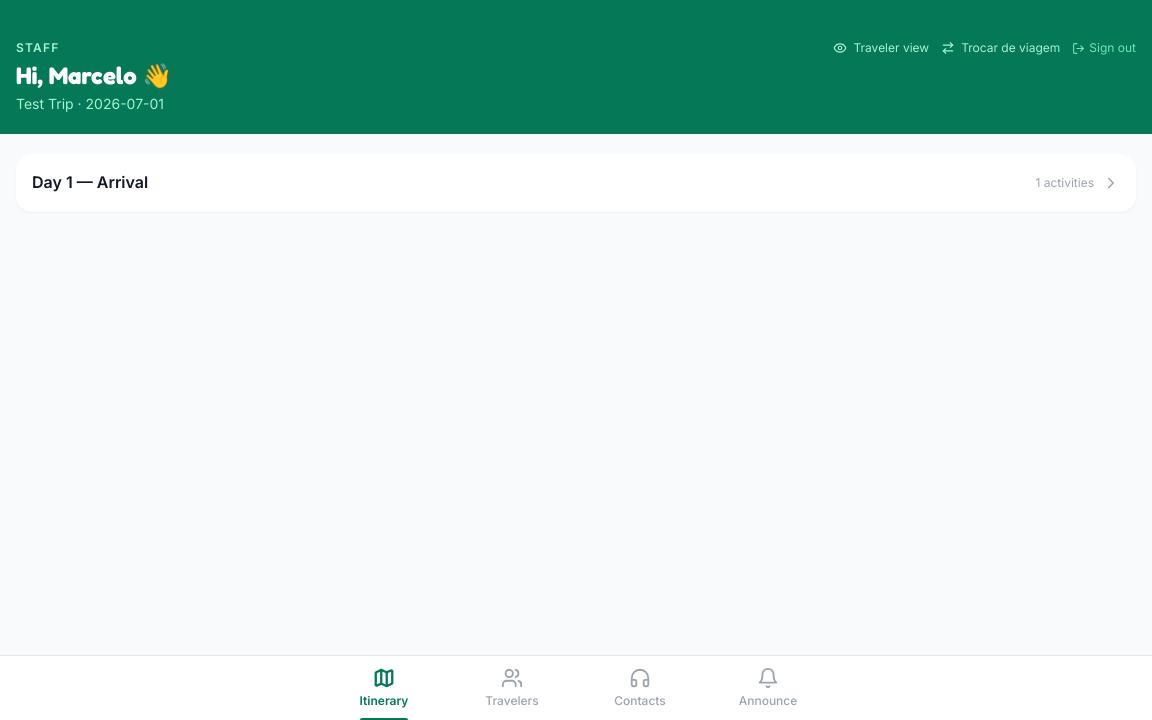
StaffScreen › checks a traveler in by name without opening the camera
What coordinates should you click on to do the following:
click the text "Day 1 — Arrival"
I would click on:
 (90, 182)
Its box is [32,170,148,194].
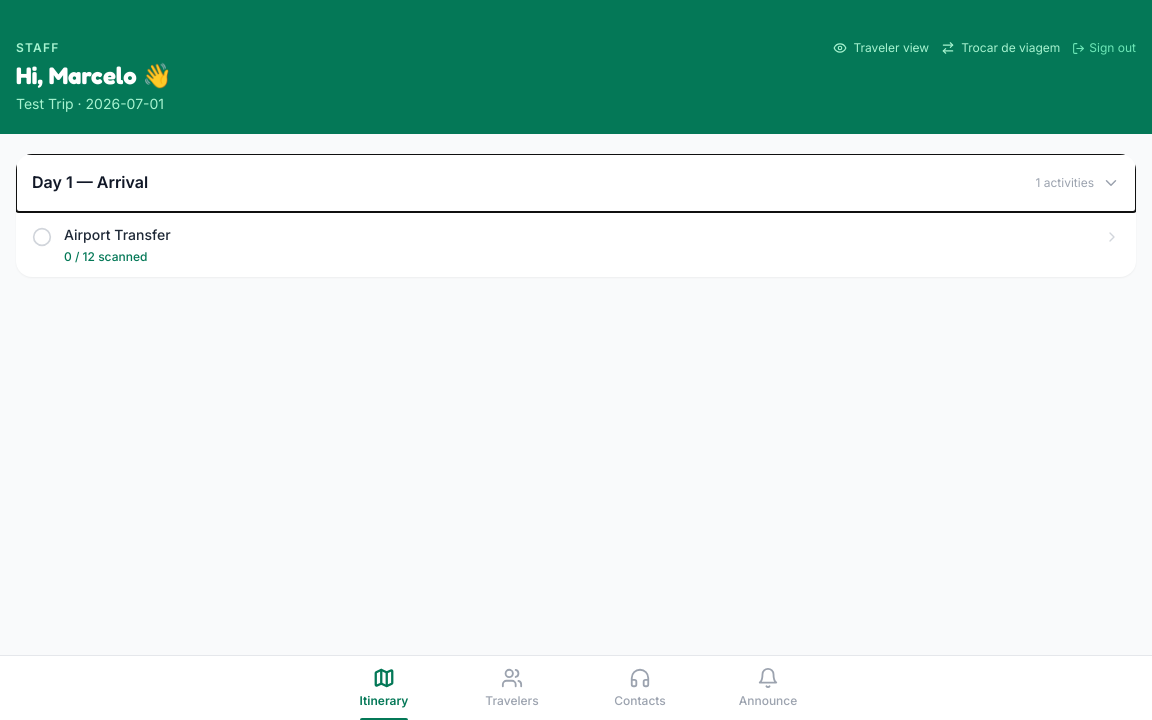
What coordinates should you click on to do the following:
click the text "Airport Transfer"
I would click on:
 (117, 234)
Its box is [64,226,171,243].
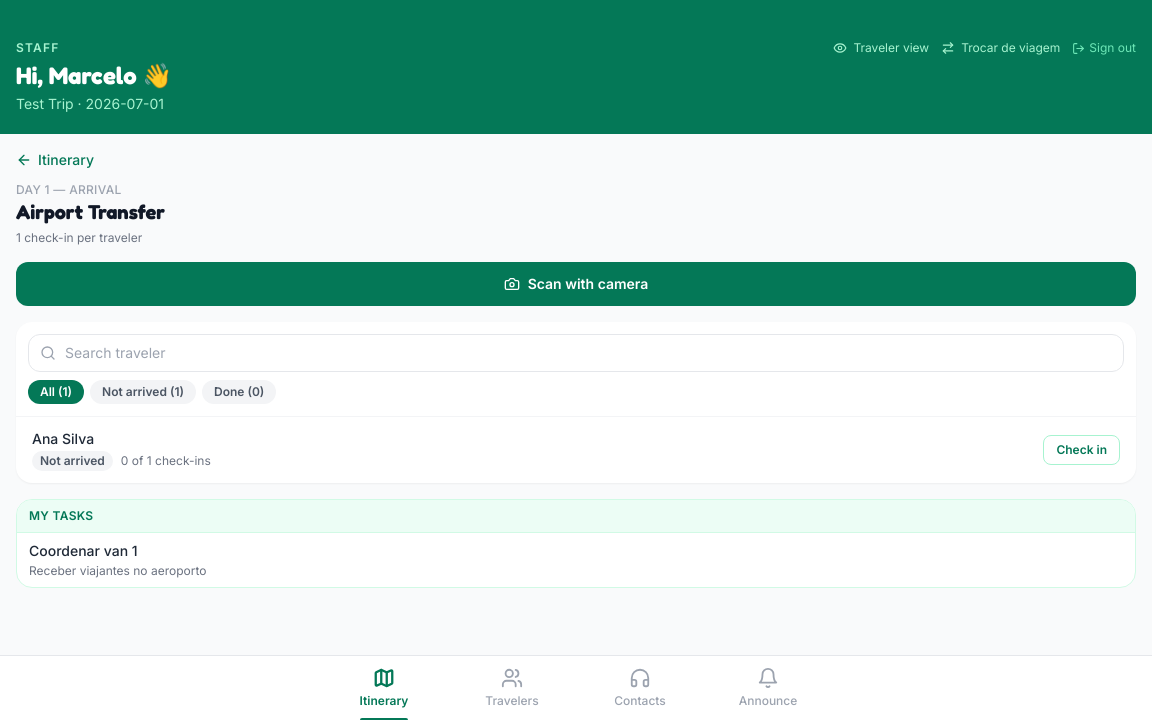
Check: the heading "Airport Transfer" is shown, box [16,200,165,224]
What coordinates should you click on to do the following:
click the button with aria-label "check in ana silva"
I would click on:
 (1082, 450)
Its box is [1043,435,1120,465].
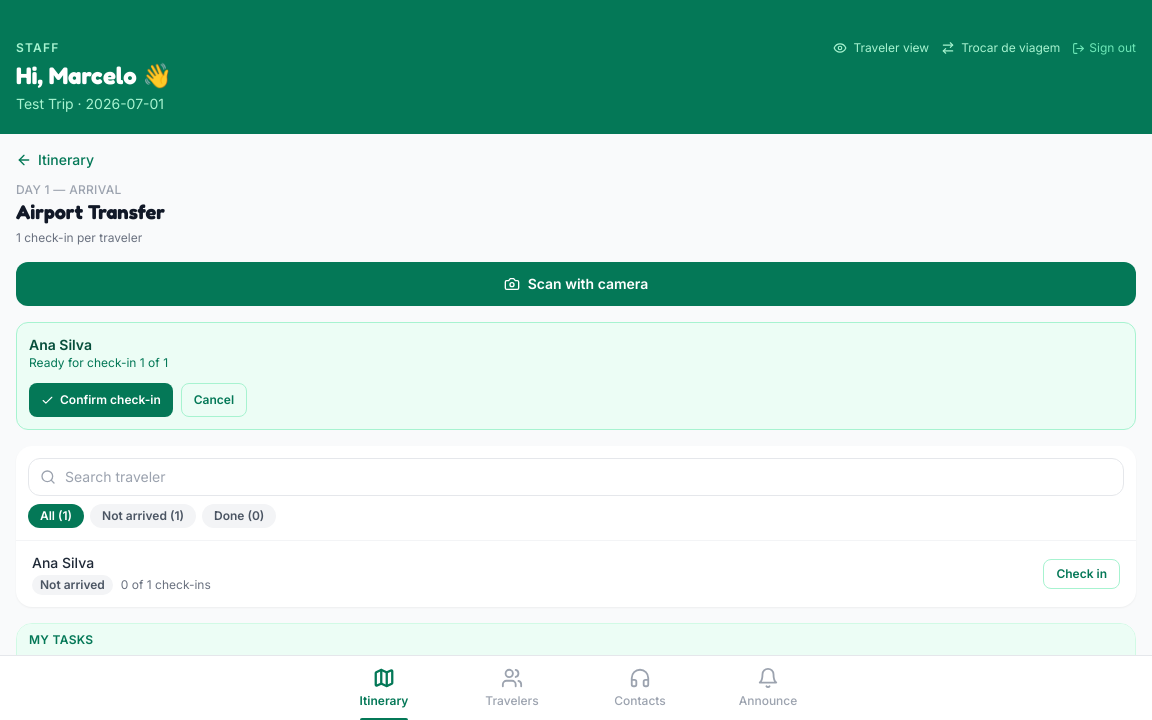
What coordinates should you click on to do the following:
click the button "Confirm check-in"
I would click on:
 (101, 400)
Its box is [29,383,173,417].
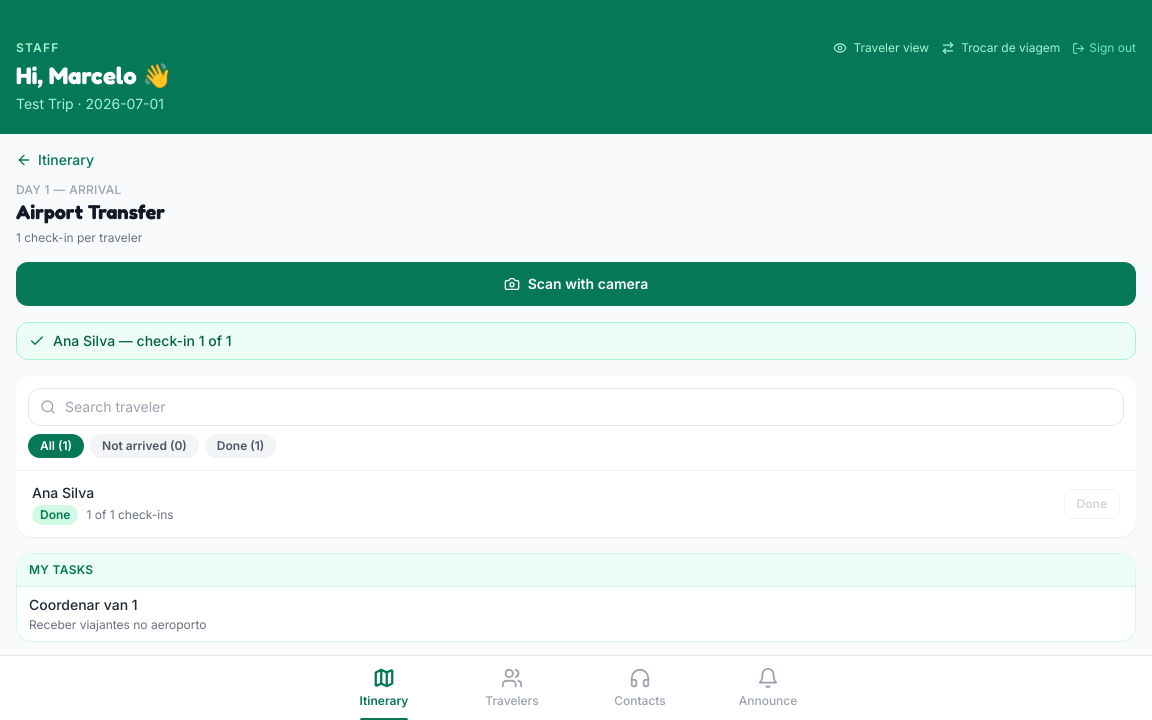
Check: the text "Ana Silva — check-in 1 of 1" is shown, box [53,331,232,351]
Check: the list item "Ana Silva" shows "Done", box [40,507,70,522]
